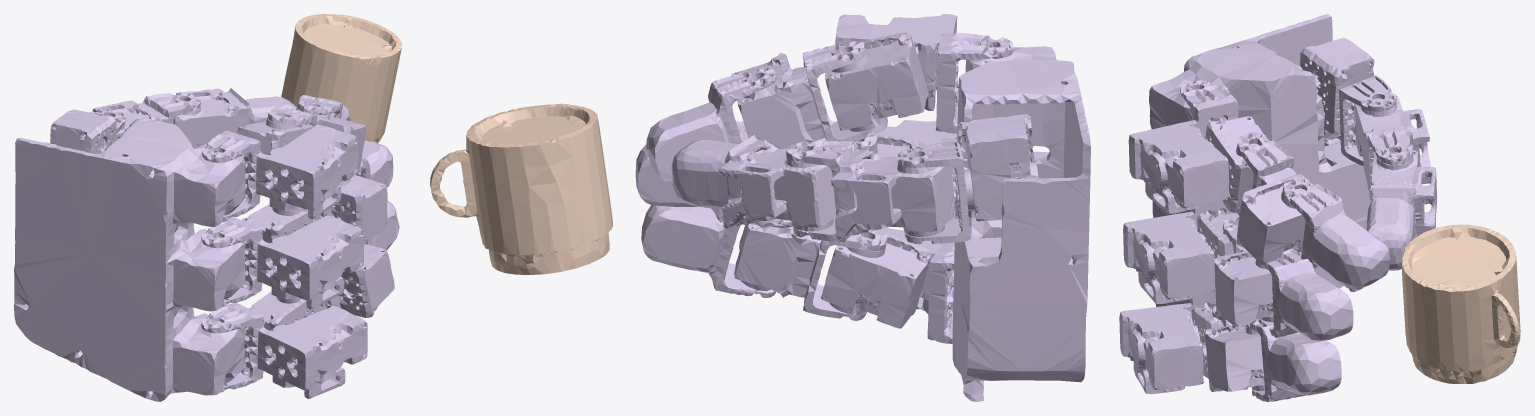
File: 7434868ef791b4-closed.glb
3 views of the same model, side by side, from view 1: azimuth 30°, elevation 25°; view 2: azimuth 150°, elevation 25°; view 3: azimuth 270°, elevation 25° (orthographic). The views are drawn at different scales.
Parts seen in each view (by area): view 1: LEAP_hand, world; view 2: LEAP_hand, world; view 3: LEAP_hand, world.
Boxes of the visible parts, x1,y1,x2,y2 form: LEAP_hand: [14, 88, 399, 401]; world: [281, 14, 401, 143]; LEAP_hand: [635, 14, 1090, 401]; world: [430, 103, 612, 274]; LEAP_hand: [1119, 14, 1436, 401]; world: [1401, 224, 1520, 383].
Bounding box in the file's own units: 0.2482 × 0.1283 × 0.1805.
